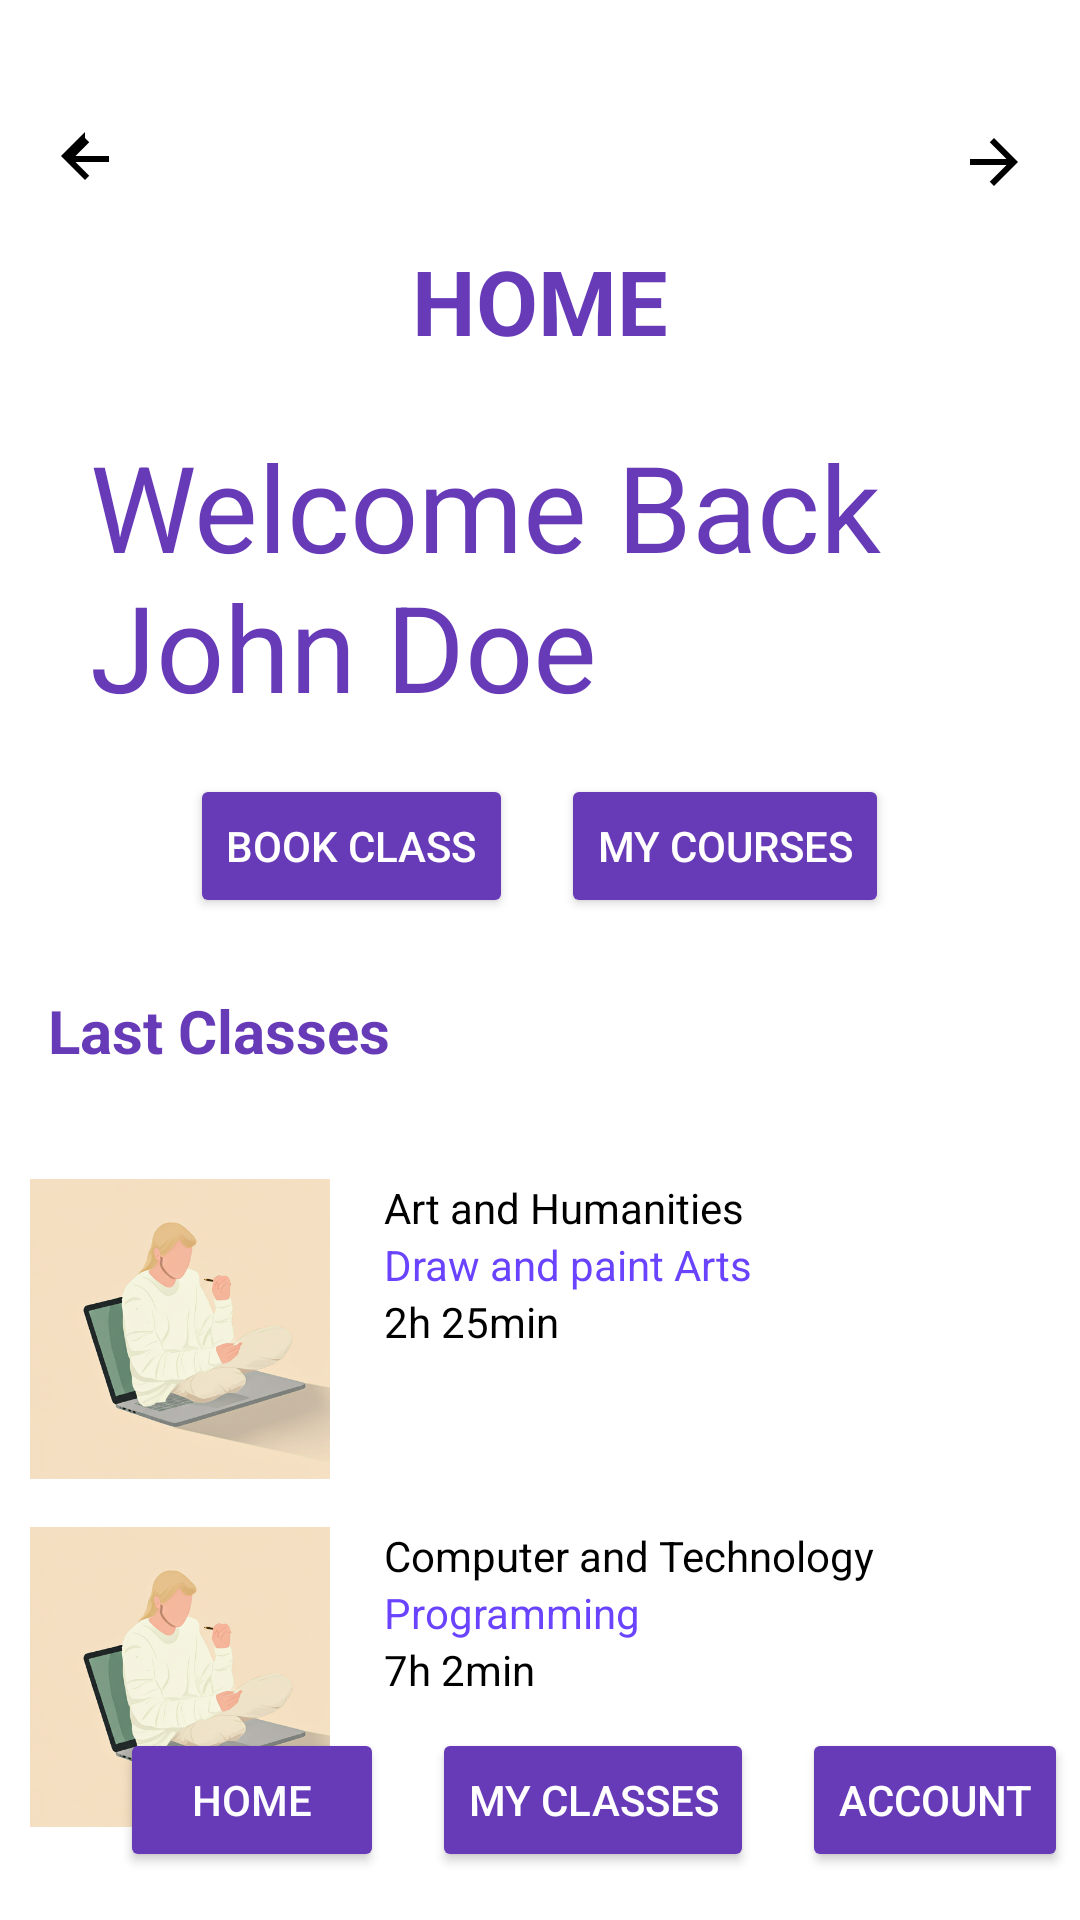

Locate icon controls on the screen. Image size 1080*1920, boxes as (x1, y1, x2, y2).
arrow left: (61, 132, 109, 180)
arrow right: (970, 138, 1018, 186)
